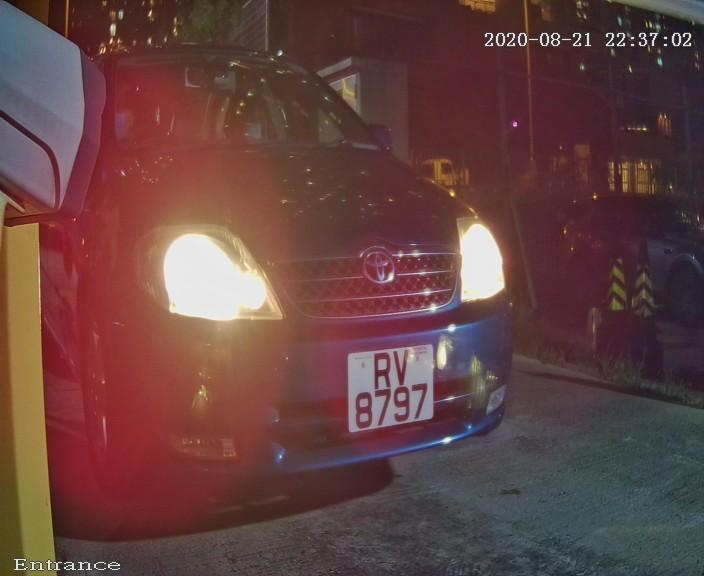Car: (23, 19, 595, 543)
License Plate: (331, 335, 450, 440)
